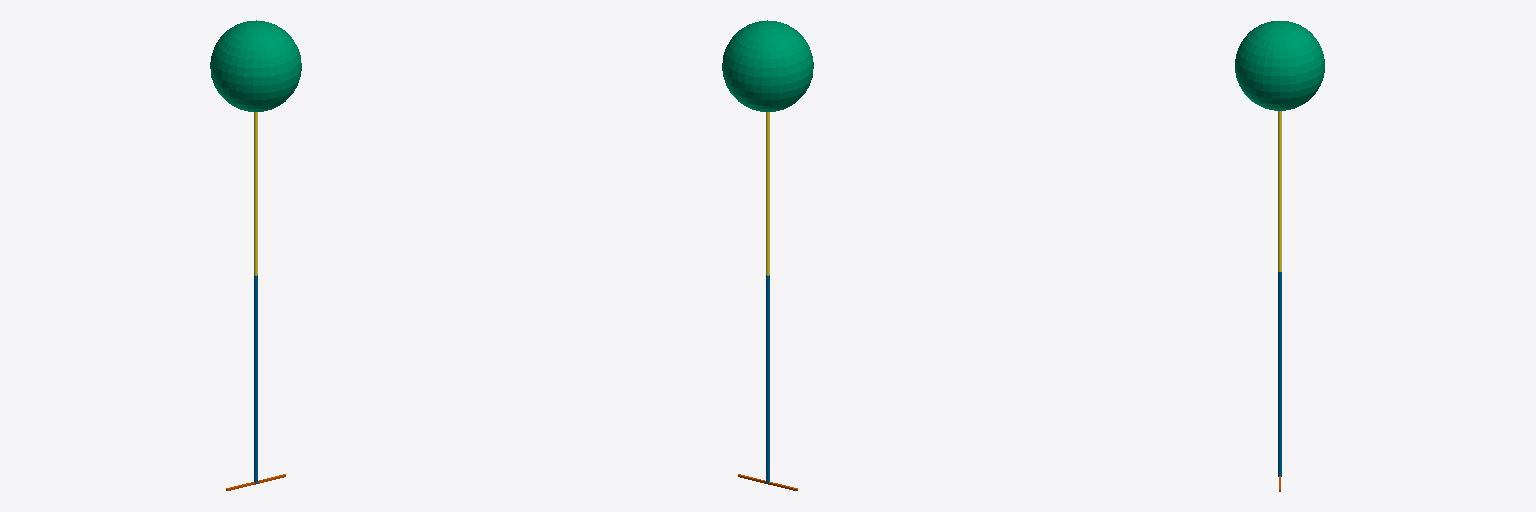
robot.urdf — single_legged_hopper:
<?xml version="1.0"?>
<robot name = "single_legged_hopper">
    <link name = "xtrans"/>
    <link name = "ztrans"/>
    <!-- add link for the base -->
    <link name="base">
        <inertial>
            <origin xyz="0 0 0"/>
            <mass value="1"/>
            <inertia ixx="0.016" ixy="0" ixz="0" iyy="0.016" iyz="0.0" izz="0.016"/>
        </inertial>
        <visual>
            <origin xyz="0 0 0" rpy="0.0 0.0 0.0"/>
            <geometry>
                <sphere radius="0.2"/>
            </geometry> 
        </visual>
    </link>
    <!--does this lock the hopper in x and z axis?-->
    <joint name="xslide" type="prismatic">
        <parent link="xtrans"/>
        <child link="ztrans"/>
        <origin rpy="0 0 0" xyz="0 0 0"/>
        <axis xyz="1 0 0"/>
    </joint>
    <joint name="zslide" type="prismatic">
        <parent link="ztrans"/>
        <child link="base"/>
        <origin rpy="0 0 0" xyz="0 0 0"/>
        <axis xyz="0 0 1"/>
    </joint>
    <!-- join between base and leg 1 -->
    <joint name="base_leg_1" type="revolute">
        <parent link="base"/>
        <child link="leg_1"/>
        <axis xyz="0 1 0"/>
      	<origin xyz = "0 0 0"/>
        <limit lower="-0.785" upper="0.785"/>
    </joint>
    
    <!-- add link for leg 1 -->
    <link name="leg_1">
        <visual>
            <origin xyz="0 0 -0.5" rpy="0 0 0"/>
            <geometry>
                <cylinder radius="0.01" length = "1"/>
            </geometry>
        </visual>
        <inertial>
            <origin xyz="0 0 -0.5" rpy="0 0 0"/>
            <mass value="1"/>
            <inertia ixx="0.083" ixy="0.0" ixz="0.0" iyy="0.083" iyz="0.0" izz="0.00005"/>
        </inertial>
    </link>
    <!-- join between leg 1 and leg 2 -->
    <joint name="leg_1_leg_2" type="revolute">
        <parent link="leg_1"/>
        <child link="leg_2"/>
        <axis xyz="0 1 0"/>
      	<origin xyz = "0 0 -1"/>
        <limit lower="-1.5" upper="1.5"/>
    </joint>
    
    <!-- add link for leg 2 -->
    <link name="leg_2">
        <visual>
            <origin xyz="0 0 -0.5" rpy="0 0 0"/>
            <geometry>
                <cylinder radius="0.01" length = "1"/>
            </geometry>
        </visual>
        <inertial>
            <origin xyz="0 0 -0.5" rpy="0 0 0"/>
            <mass value="1"/>
            <inertia ixx="0.083" ixy="0.0" ixz="0.0" iyy="0.083" iyz="0.0" izz="0.00005"/>
        </inertial>
    </link>
    <!-- joint between leg 2 and foot -->
    <joint name="leg_2_foot" type="revolute">
        <parent link="leg_2"/>
        <child link="foot"/>
        <axis xyz="0 1 0"/>
      	<origin xyz = "0 0 -1"/>
        <limit lower="-0.785" upper="0.785"/>
    </joint>
    <link name="foot">
        <inertial>
            <origin xyz="0 0 0" rpy="0.0 0.0 0.0"/>
            <mass value="0.3"/>
            <inertia ixx="0.000015" ixy="0.0" ixz="0.0" iyy="0.00225" iyz="0.0" izz="0.00225"/>
        </inertial>
        <visual>
            <origin xyz="0 0 0" rpy="0.0 0.0 0.0"/>
            <geometry>
                <box size="0.3 0.01 0.01"/>
            </geometry>
        </visual>
        <!-- collision point 1 -->
        <collision>
            <origin xyz="0.15 0 0" rpy="0.0 0.0 0.0"/>
            <geometry>
                <sphere radius="0"/>
            </geometry>
        </collision>
        <!-- collision point 2 -->
        <collision>
        <origin xyz="-0.15 0 0"/>
            <geometry>
                <sphere radius="0"/>
            </geometry>
        </collision>
        <!-- single collision point -->
        <!-- <collision>
            <origin xyz="0 0 0" rpy="0.0 0.0 0.0"/>
            <geometry>
                <sphere radius="0"/>
            </geometry>
        </collision> -->
    </link>
    <!-- fix the joints together -->
    <!-- add transmission between base and leg 1 -->
    <transmission name = "joint1_transmission">
        <type>transmission_interface/SimpleTransmission</type>
        <joint name="base_leg_1"/>
        <actuator name="joint1_actuator">
            <mechanicalReduction>1</mechanicalReduction>
        </actuator>
    </transmission>
    <transmission name = "joint2_transmission">
        <type>transmission_interface/SimpleTransmission</type>
        <joint name="leg_1_leg_2"/>
        <actuator name="joint2_actuator">
            <mechanicalReduction>1</mechanicalReduction>
        </actuator>
    </transmission>
    <transmission name = "joint3_transmission">
        <type>transmission_interface/SimpleTransmission</type>
        <joint name="leg_2_foot"/>
        <actuator name="joint3_actuator">
            <mechanicalReduction>1</mechanicalReduction>
        </actuator>
    </transmission>
</robot>

--- Render facts (derived) ---
3 views of the same robot in one strip: view 1: azimuth 30°, elevation 25°; view 2: azimuth 150°, elevation 25°; view 3: azimuth 270°, elevation 25° (orthographic).
Model single_legged_hopper with 6 links and 5 joints (3 revolute, 2 prismatic), rooted at xtrans, posed every joint at zero.
Visible links, largest first — view 1: base, leg_2, leg_1; view 2: base, leg_2, leg_1; view 3: base, leg_2, leg_1.
Boxes of the visible links, x1,y1,x2,y2 form: base: [210, 20, 301, 111]; leg_2: [254, 275, 257, 483]; leg_1: [254, 112, 257, 275]; base: [722, 20, 813, 111]; leg_2: [766, 275, 769, 483]; leg_1: [766, 112, 769, 275]; base: [1235, 21, 1324, 110]; leg_2: [1278, 272, 1281, 476]; leg_1: [1278, 111, 1281, 271].
Size in the robot's own frame: 0.4 by 0.4 by 2.21 metres.
Geometry: primitives only (box / cylinder / sphere), no mesh files.
